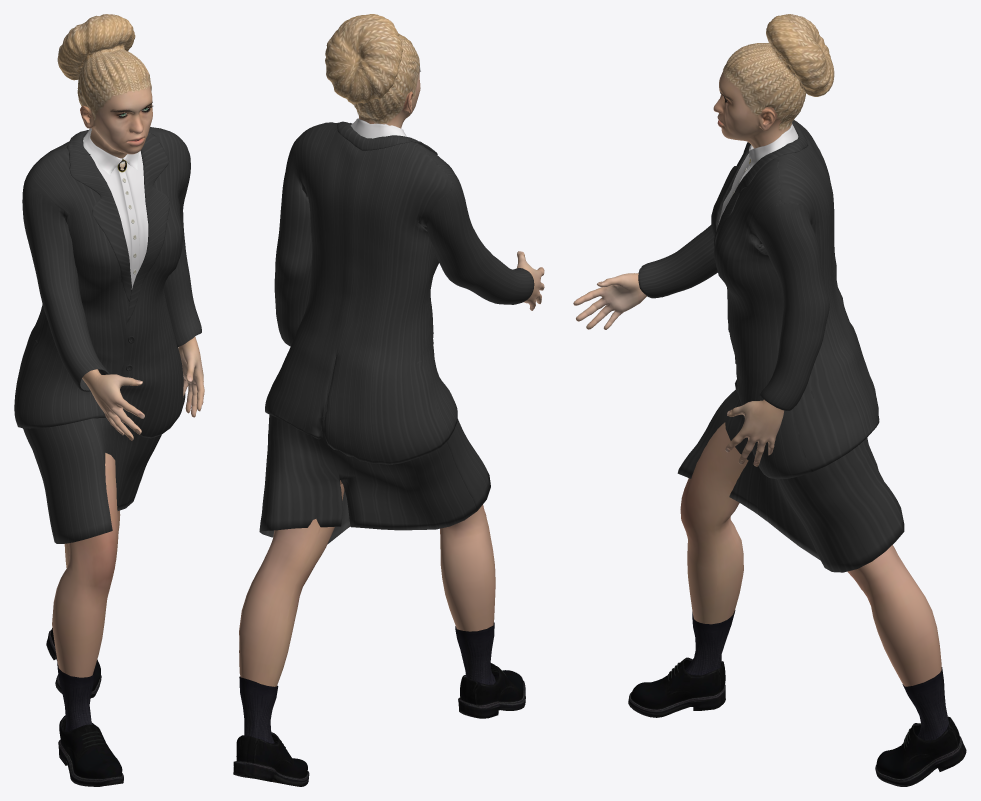
Rendered from donna-04.glb.
3 views of the same model, side by side, from view 1: azimuth 30°, elevation 25°; view 2: azimuth 150°, elevation 25°; view 3: azimuth 270°, elevation 25° (orthographic). The views are drawn at different scales.
Visible parts, largest first — view 1: Human.toigo_female_suit, Human, Human.elvs_braid_bun, Human.shoes03; view 2: Human.toigo_female_suit, Human, Human.shoes03, Human.elvs_braid_bun; view 3: Human.toigo_female_suit, Human, Human.shoes03, Human.elvs_braid_bun.
Boxes of the visible parts, <box> form: Human.toigo_female_suit: <box>14,127,201,543</box>; Human: <box>52,81,204,677</box>; Human.elvs_braid_bun: <box>57,14,151,120</box>; Human.shoes03: <box>46,628,123,786</box>; Human.toigo_female_suit: <box>259,118,534,543</box>; Human: <box>239,69,544,686</box>; Human.shoes03: <box>233,622,525,786</box>; Human.elvs_braid_bun: <box>325,14,419,123</box>; Human.toigo_female_suit: <box>638,120,904,572</box>; Human: <box>573,70,941,686</box>; Human.shoes03: <box>628,610,966,786</box>; Human.elvs_braid_bun: <box>723,14,834,130</box>.
Size of the model in its own units: 0.4895 by 1.83 by 0.8749.
Materials: 12 (12 with a texture image).
